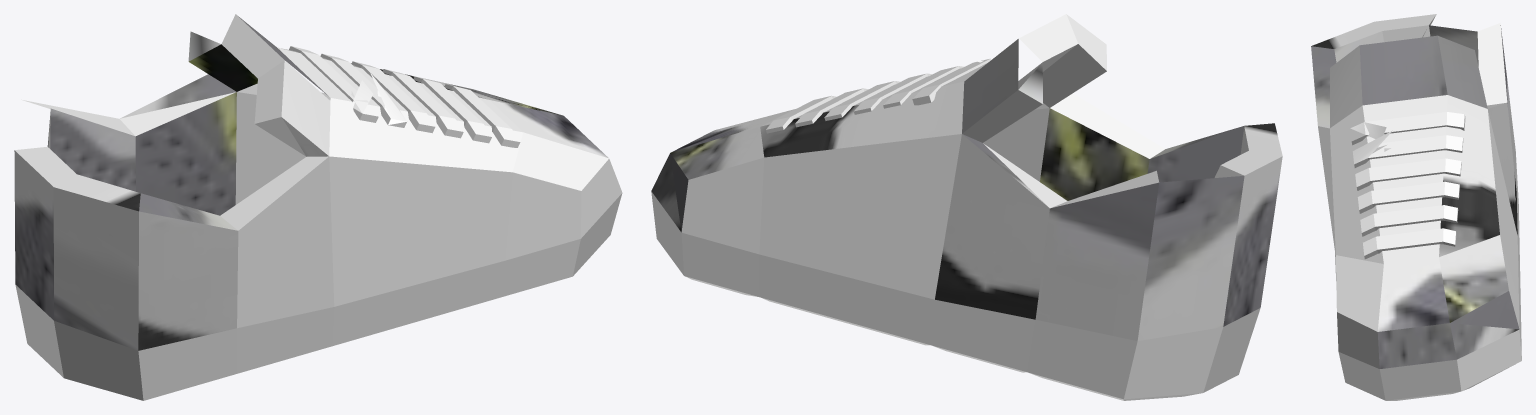
Rendered from shoes.glb.
3 renders of one model, left to right at view 1: azimuth 30°, elevation 25°; view 2: azimuth 150°, elevation 25°; view 3: azimuth 270°, elevation 25°, orthographic. The views are drawn at different scales.
Parts seen in each view (by area): view 1: Trainers_Cube.025; view 2: Trainers_Cube.025; view 3: Trainers_Cube.025.
Part boxes in pixels (bbox=[...]): Trainers_Cube.025: bbox=[14, 14, 622, 400]; Trainers_Cube.025: bbox=[651, 14, 1282, 400]; Trainers_Cube.025: bbox=[1311, 14, 1521, 400].
Bounding box in the file's own units: 5.83 × 3.02 × 2.28.
Materials: 2 (1 with a texture image).
